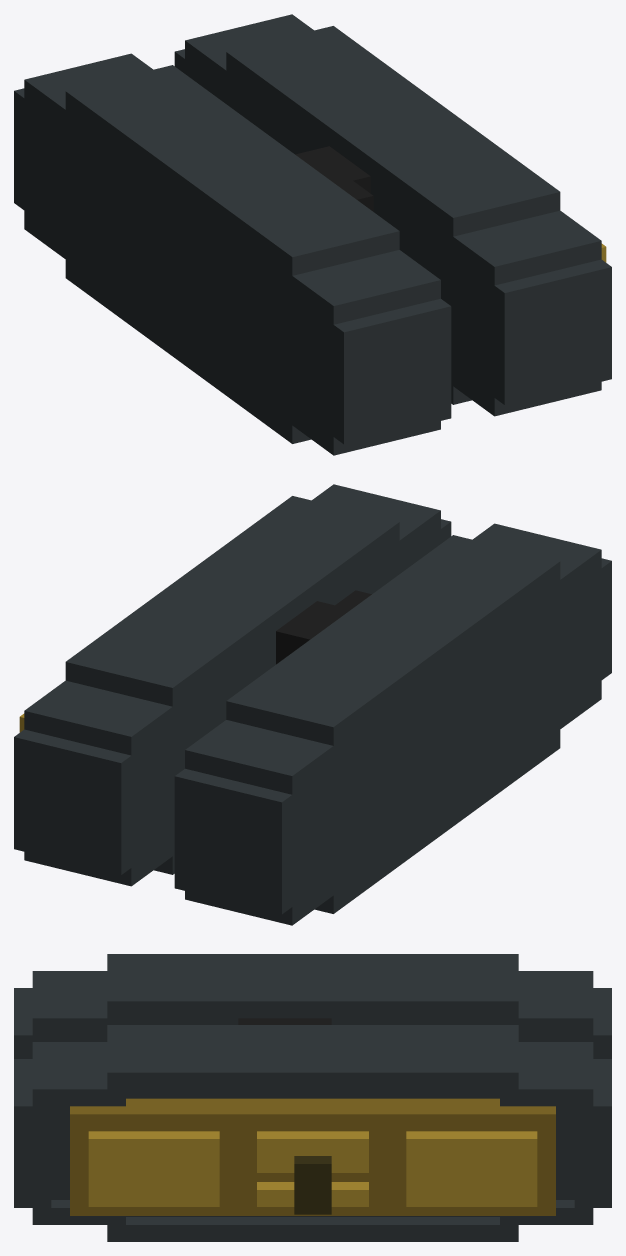
Rendered from boss_final_track.obj.
3 views of the same model, one above another, from view 1: azimuth 30°, elevation 25°; view 2: azimuth 150°, elevation 25°; view 3: azimuth 270°, elevation 25° (orthographic). The views are drawn at different scales.
Size of the model in its own units: 1.8 by 1 by 3.2.
Materials: 1 (1 with a texture image).
